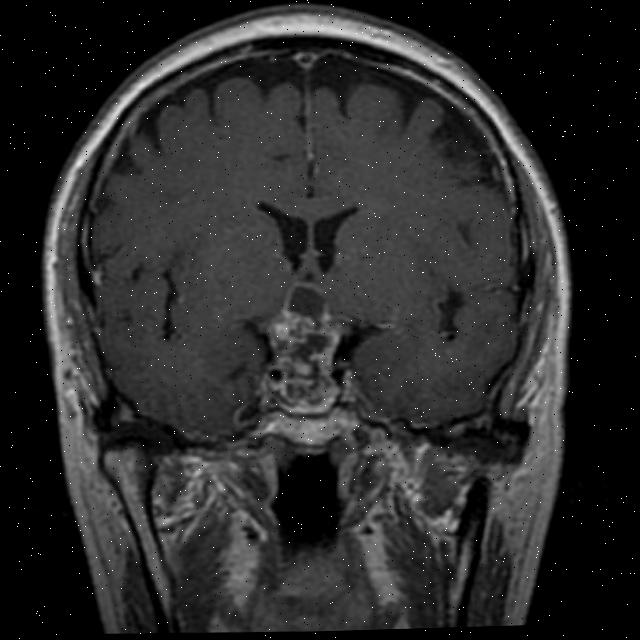Pituitary: (258, 280, 344, 413), (262, 410, 347, 446)
